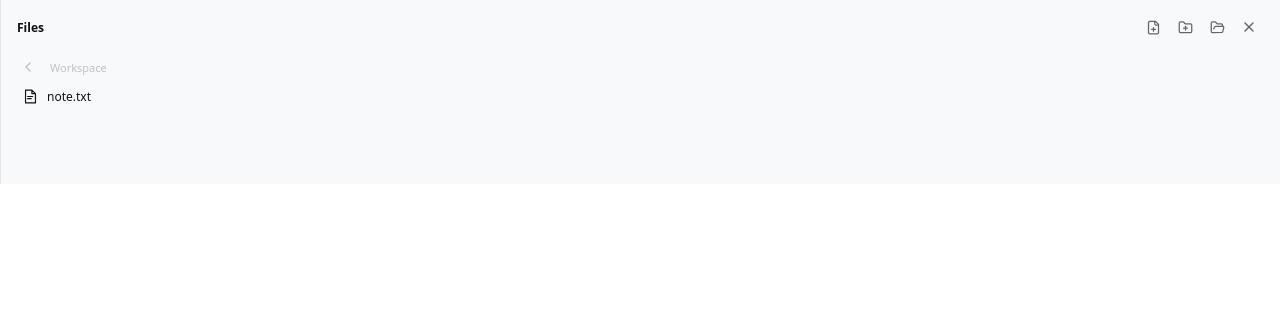
Test: reloads clean text but preserves a draft when the disk changes again
Later steps or results of the test are not shown.
Click the button "note.txt": (69,96) [13,82,1268,111]
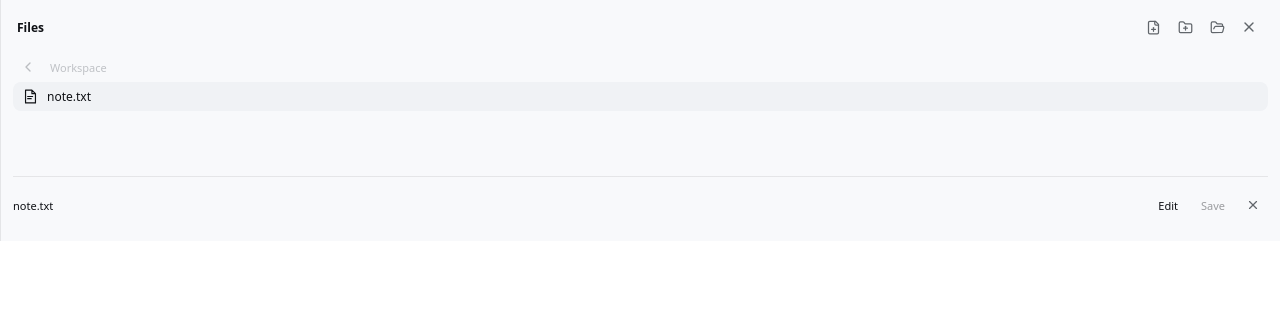
Click the button "Edit": (1168,205) [1148,190,1188,220]
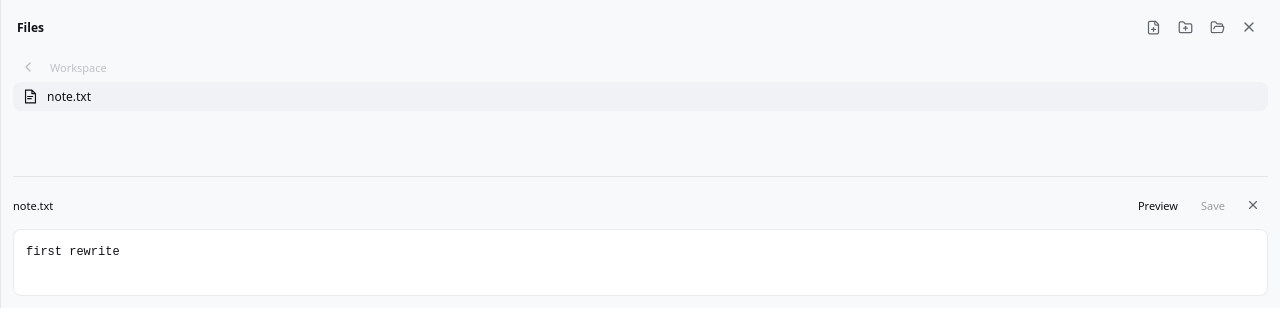
Check: the text box named "File editor" holds "first rewrite", box [13,229,1268,296]
